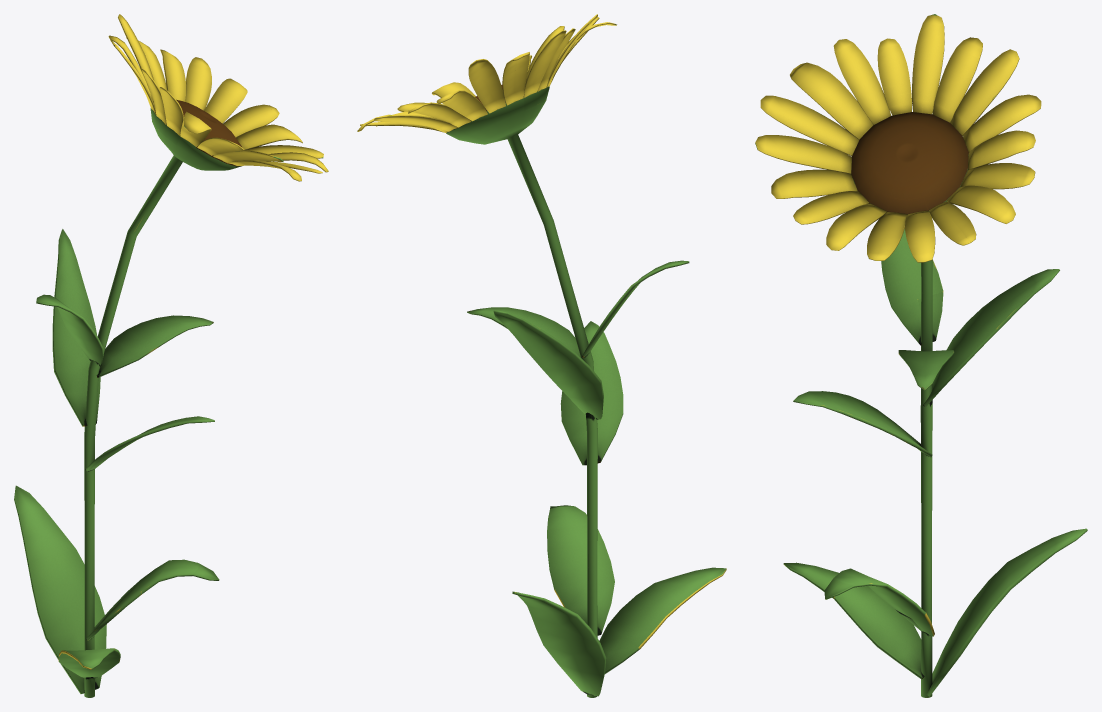
The model's file is Daisy_LP.fbx.
3 renders of one model, left to right at view 1: azimuth 30°, elevation 25°; view 2: azimuth 150°, elevation 25°; view 3: azimuth 270°, elevation 25°, orthographic. The views are drawn at different scales.
Parts seen in each view (by area): view 1: polySurface295; view 2: polySurface295; view 3: polySurface295.
Part boxes in pixels (x1,y1,x2,y2): polySurface295: (14, 14, 328, 697); polySurface295: (357, 14, 726, 697); polySurface295: (755, 14, 1087, 697).
Size of the model in its own units: 3.86 by 8.37 by 3.63.
